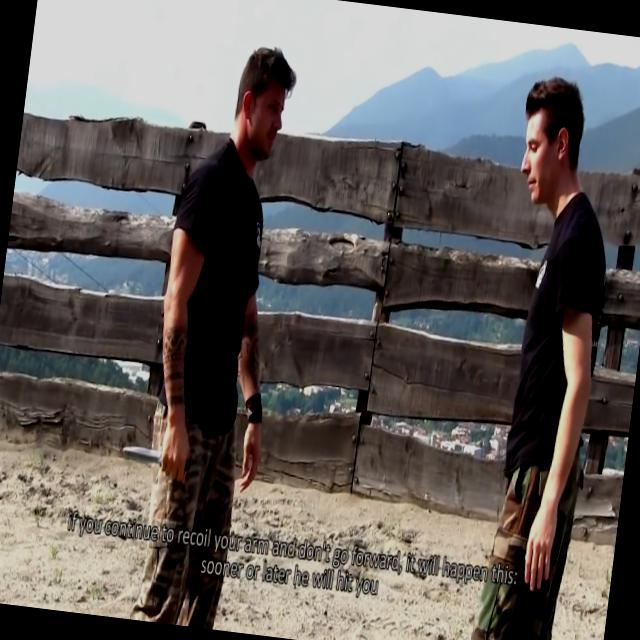knife: (111, 430, 192, 488)
